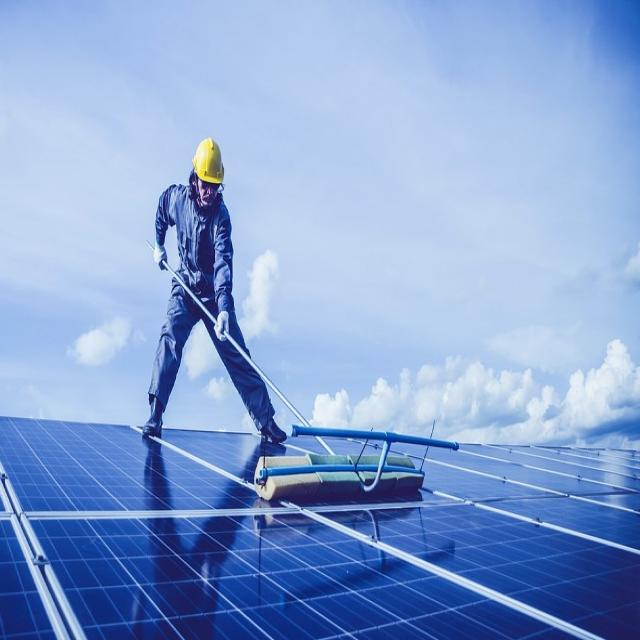clean-solar-panel: (1, 417, 640, 639)
